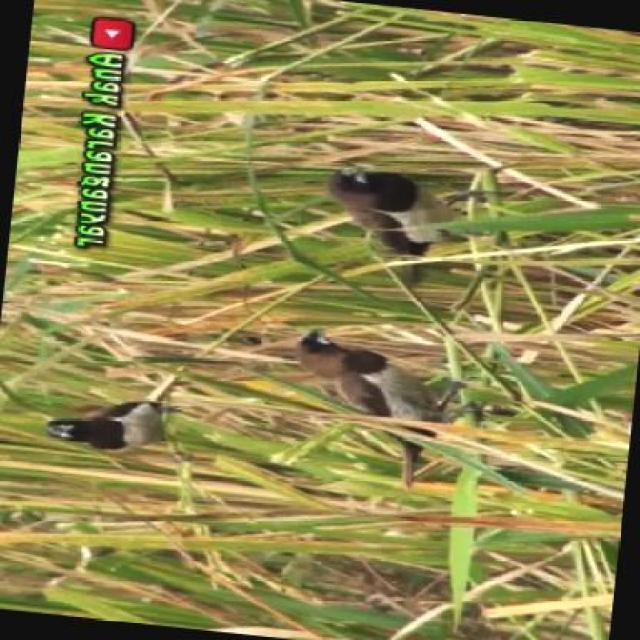Bird: (288, 322, 459, 491), (318, 160, 476, 297), (32, 376, 211, 462)
